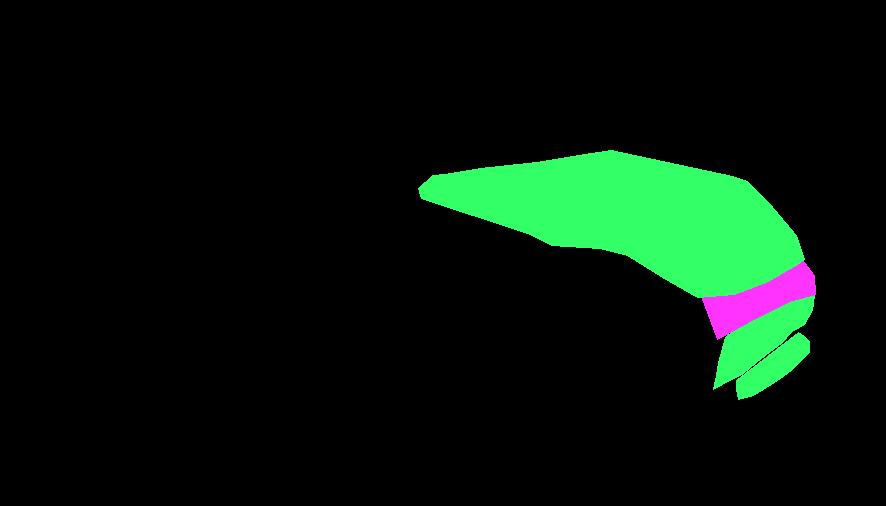Broken part: (418, 150, 804, 297), (713, 295, 814, 389), (736, 332, 809, 399)
Dent: (588, 179, 762, 279), (701, 259, 815, 339)
Paint chip: (726, 221, 738, 248), (713, 198, 731, 213), (723, 209, 738, 220), (734, 252, 741, 266)
